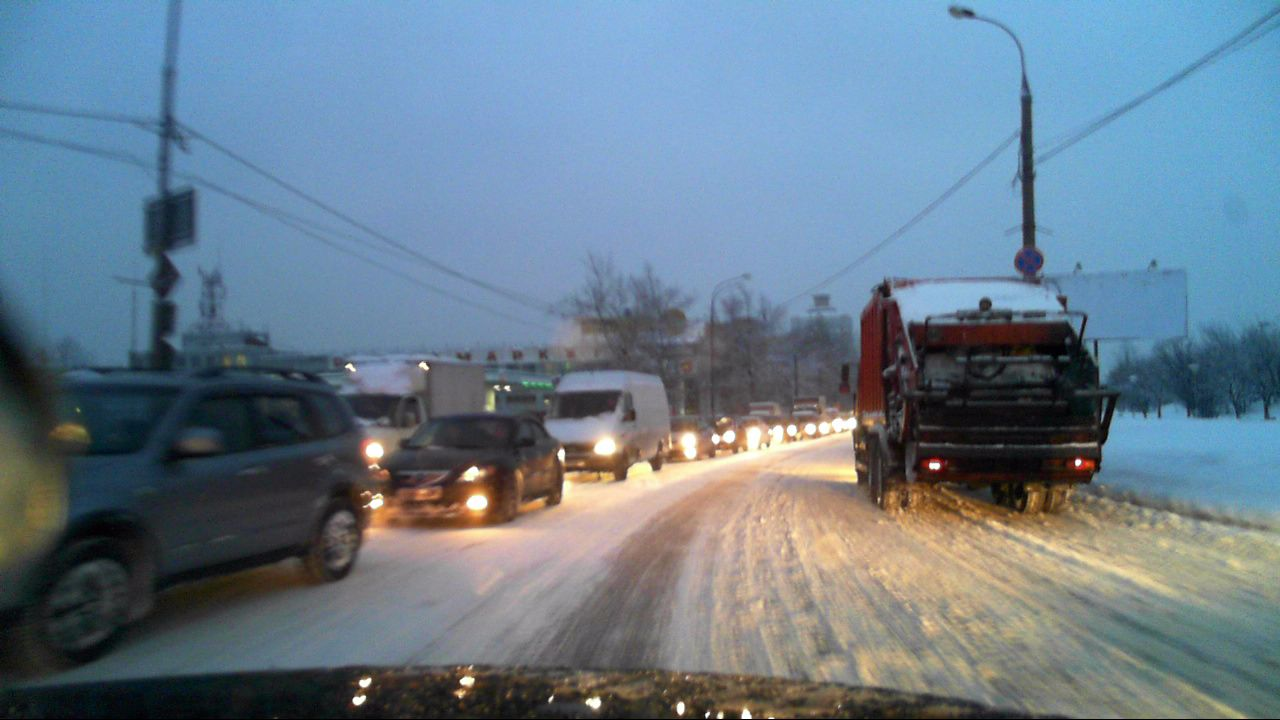No Parking: (1011, 246, 1045, 275)
